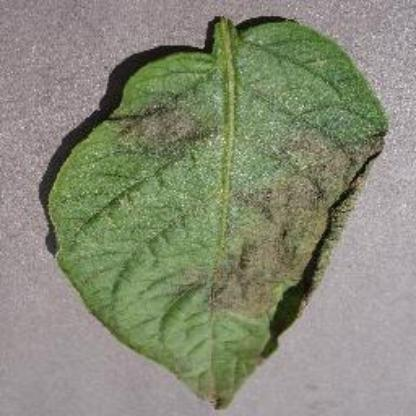Late-Blight: (18, 12, 396, 416)
